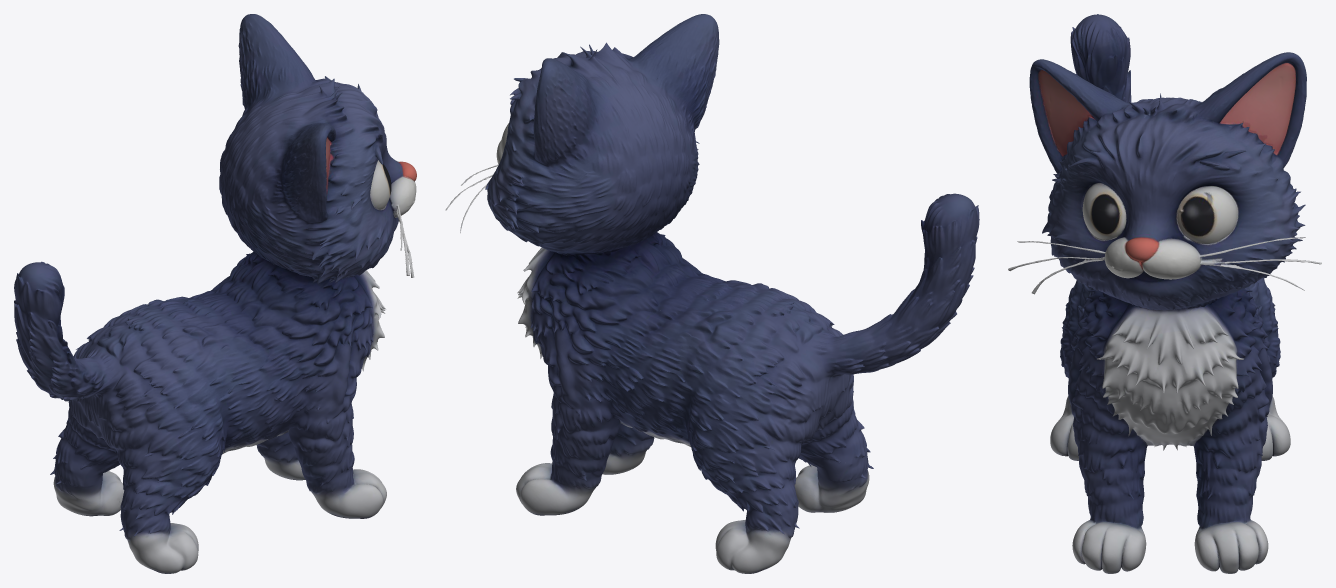
File: model_0f74fd08-eba8-4815-9426-4dd238750b50_draco.glb
The picture shows the model from 3 angles, left to right: view 1: azimuth 30°, elevation 25°; view 2: azimuth 150°, elevation 25°; view 3: azimuth 270°, elevation 25°; orthographic projection. The views are drawn at different scales.
Parts seen in each view (by area): view 1: tripo_node_0f74fd08-eba8-4815-9426-4dd238750b50; view 2: tripo_node_0f74fd08-eba8-4815-9426-4dd238750b50; view 3: tripo_node_0f74fd08-eba8-4815-9426-4dd238750b50.
Boxes of the visible parts, left/top/right/bottom form: tripo_node_0f74fd08-eba8-4815-9426-4dd238750b50: left=14, top=14, right=416, bottom=573; tripo_node_0f74fd08-eba8-4815-9426-4dd238750b50: left=445, top=14, right=979, bottom=573; tripo_node_0f74fd08-eba8-4815-9426-4dd238750b50: left=1008, top=14, right=1321, bottom=573.
Size of the model in its own units: 0.9868 by 0.9997 by 0.5697.
1 material, 1 textured.
